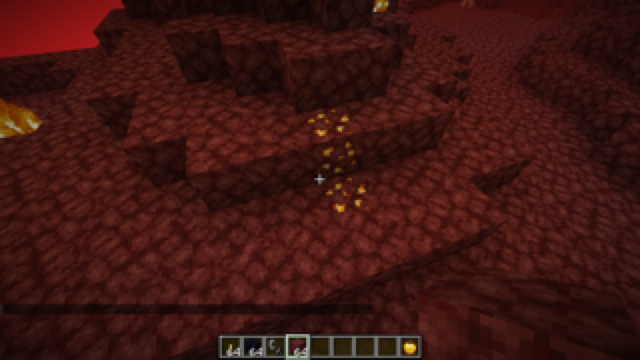nethergold: (302, 104, 374, 218)
